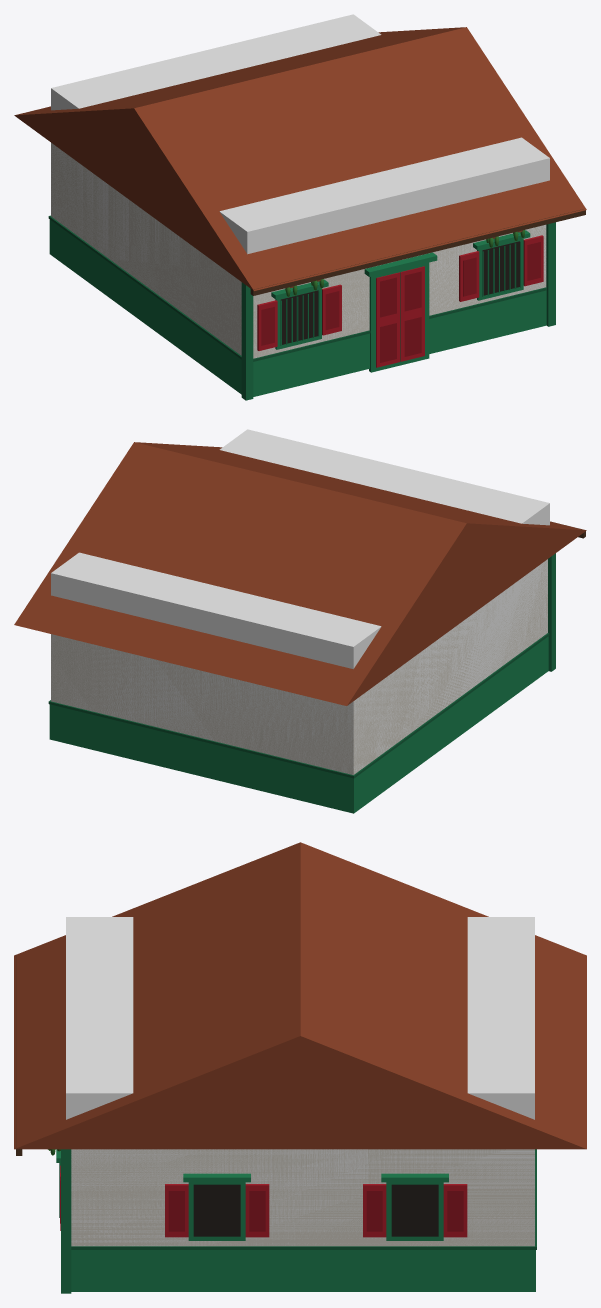
File: casa_cafetera_baja_verde.glb
3 renders of one model, top to bottom at view 1: azimuth 30°, elevation 25°; view 2: azimuth 150°, elevation 25°; view 3: azimuth 270°, elevation 25°, orthographic. The views are drawn at different scales.
Visible parts, largest first — view 1: casa_cafetera_baja_verde_Malla, COL_0; view 2: casa_cafetera_baja_verde_Malla, COL_0; view 3: casa_cafetera_baja_verde_Malla, COL_0.
Part boxes in pixels (<box>): casa_cafetera_baja_verde_Malla: <box>14,27,586,400</box>; COL_0: <box>51,14,549,357</box>; casa_cafetera_baja_verde_Malla: <box>14,442,586,813</box>; COL_0: <box>51,429,549,774</box>; casa_cafetera_baja_verde_Malla: <box>14,842,586,1293</box>; COL_0: <box>66,917,534,1246</box>.
Size of the model in its own units: 8.8 by 5.68 by 11.
